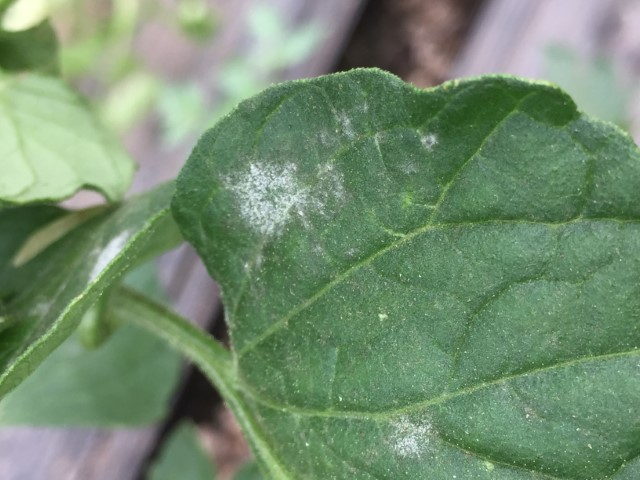oidio: (222, 153, 348, 240), (319, 99, 370, 148), (388, 410, 436, 459), (416, 130, 439, 153)
